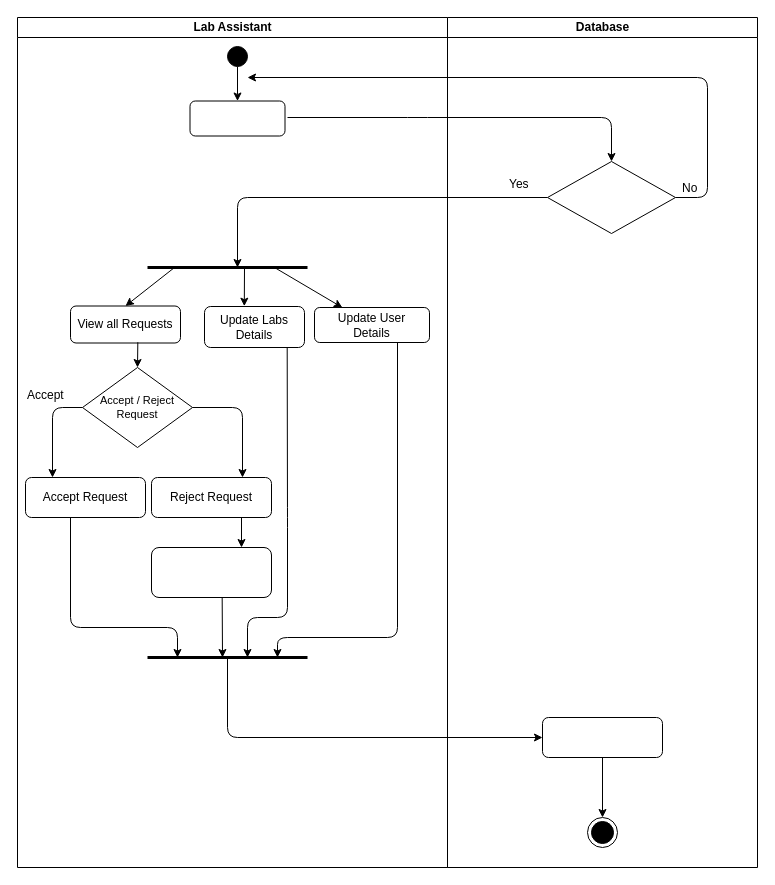
Image size: 775x885. Some labels were removed from this diagram. The shapes that lost their labels are listed below. From the top down, each one's centre as x and y in pixels, then its label:
the point at 237,118: Login
the point at 611,197: Authenticated ?
the point at 211,572: Provide Reason
the point at 602,737: Update Data
